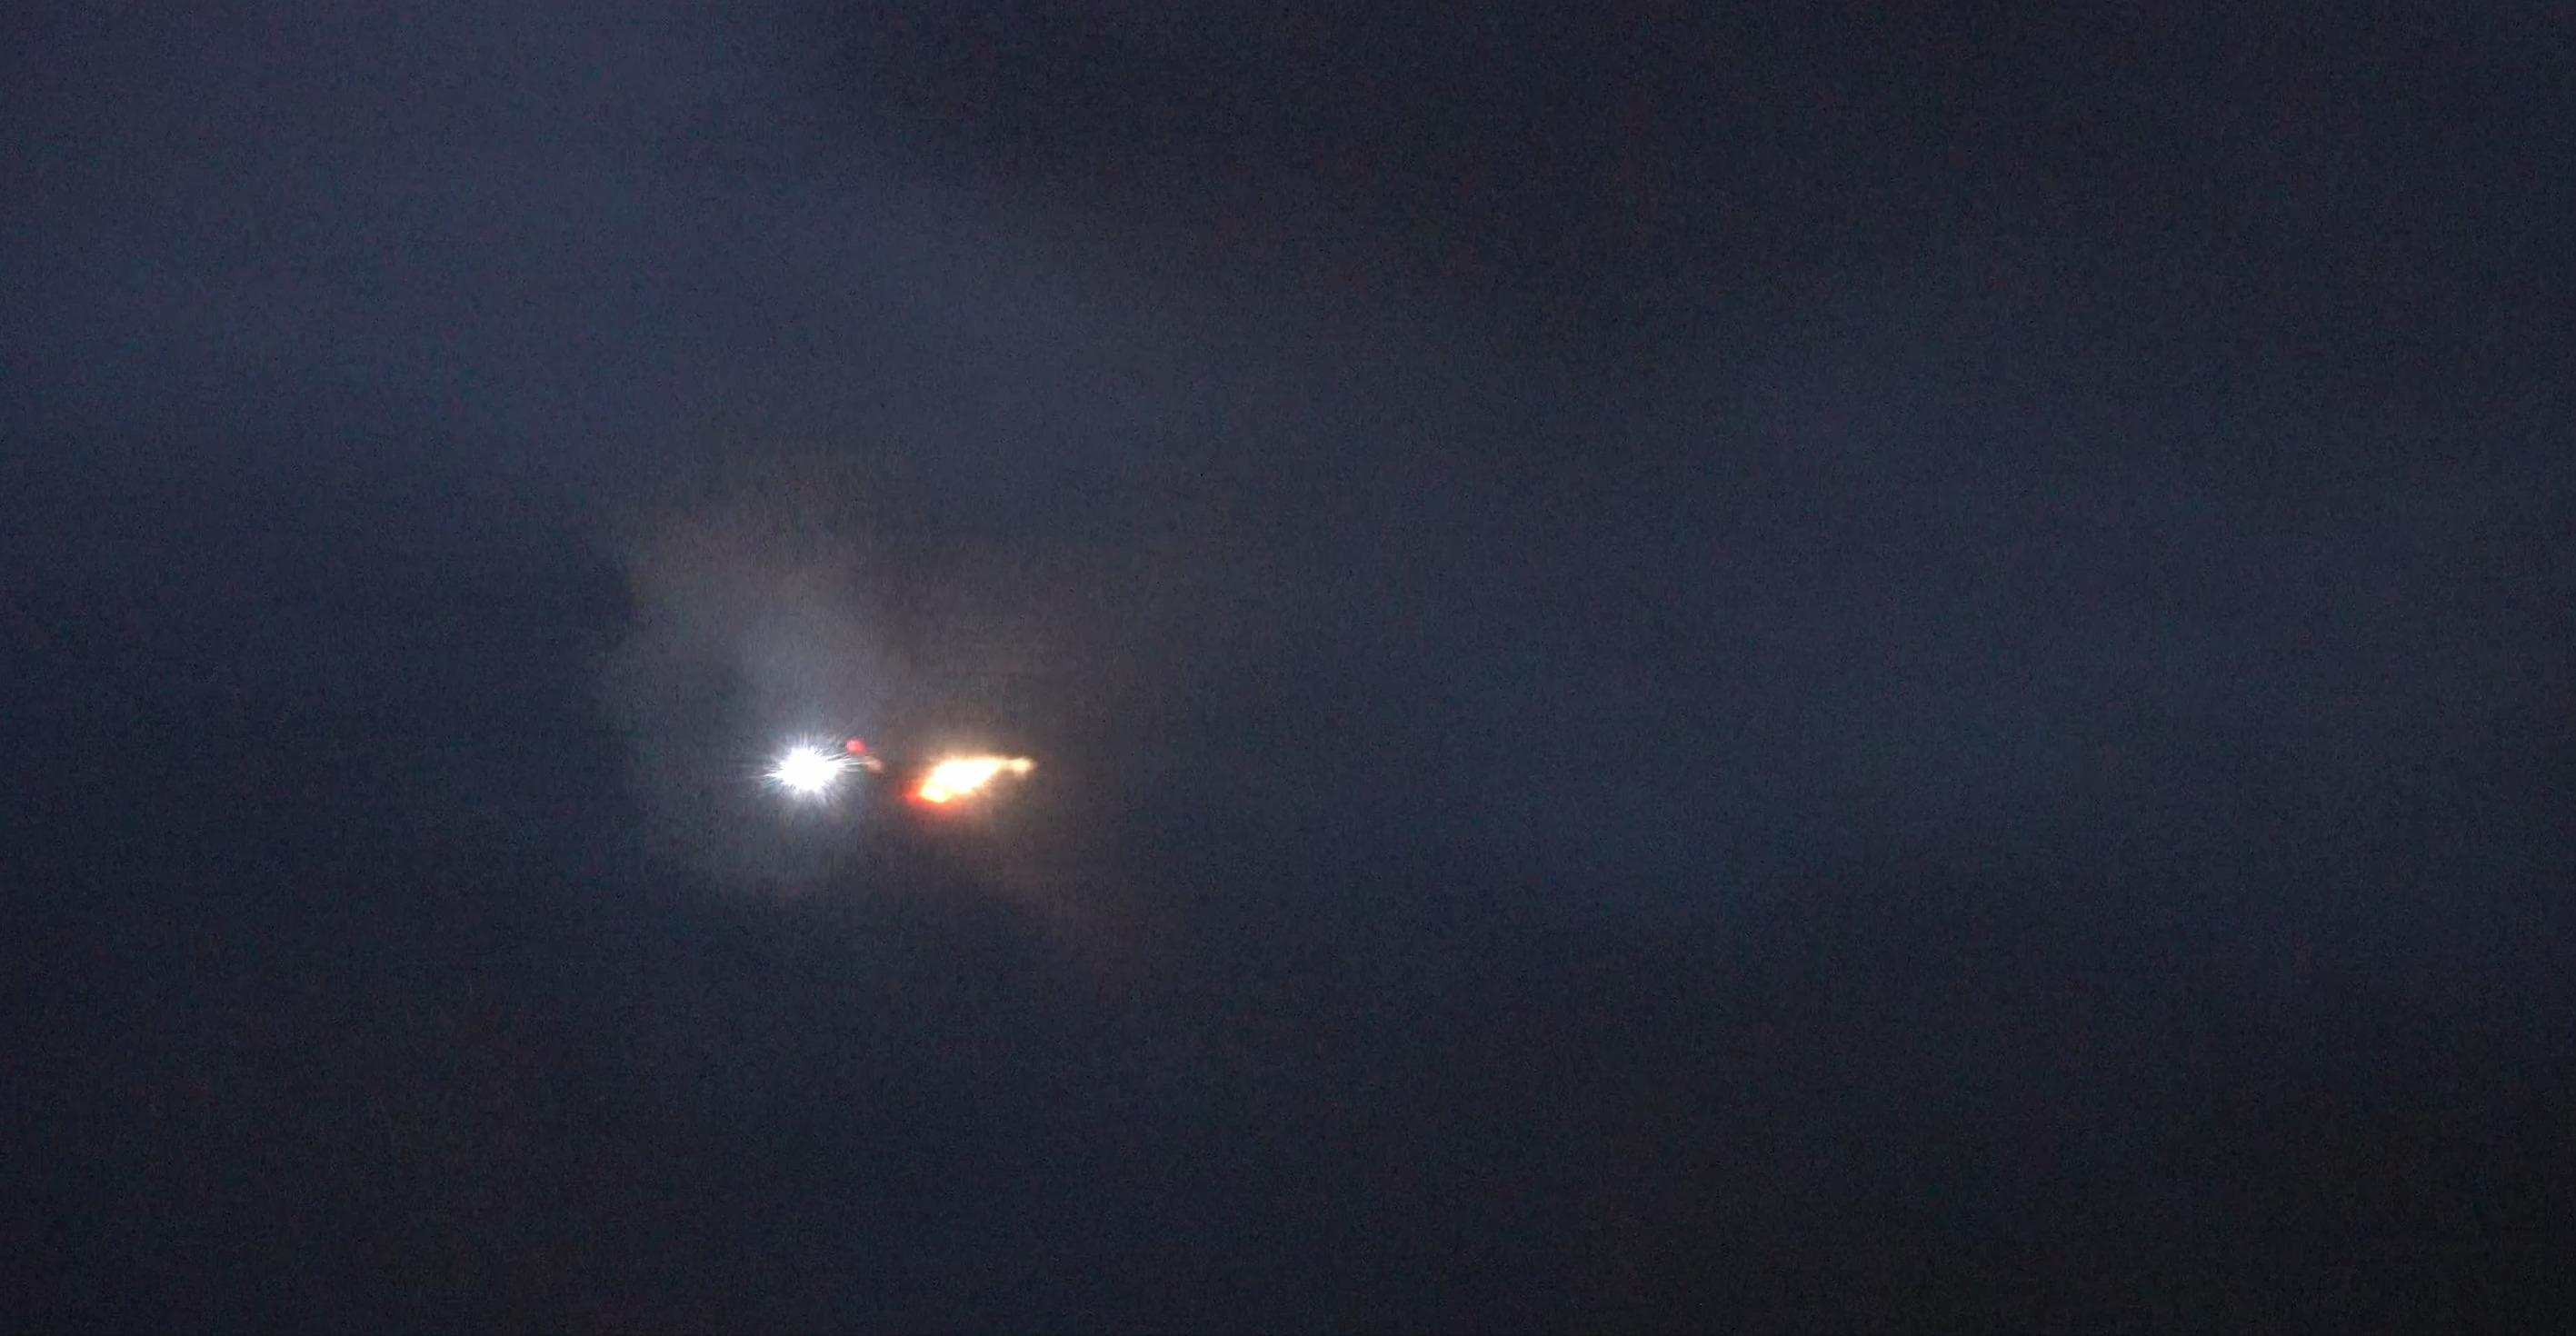Plane: (734, 733, 1118, 821)
